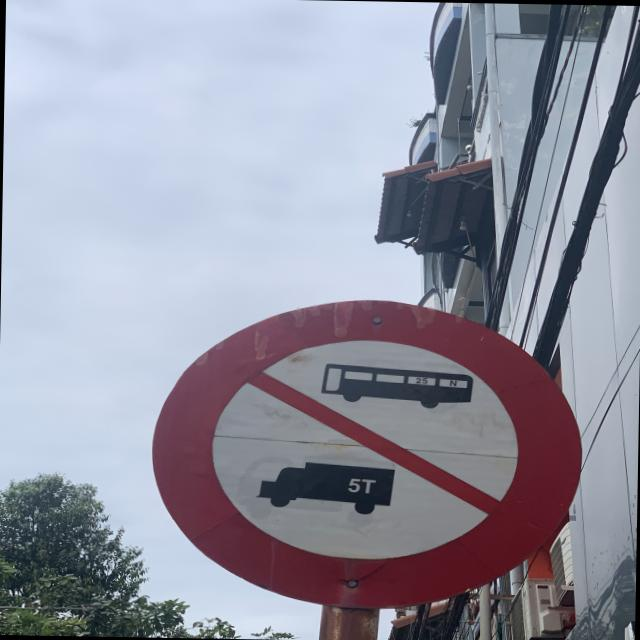Cam_XeTai_XeKhach: (145, 293, 589, 609)
